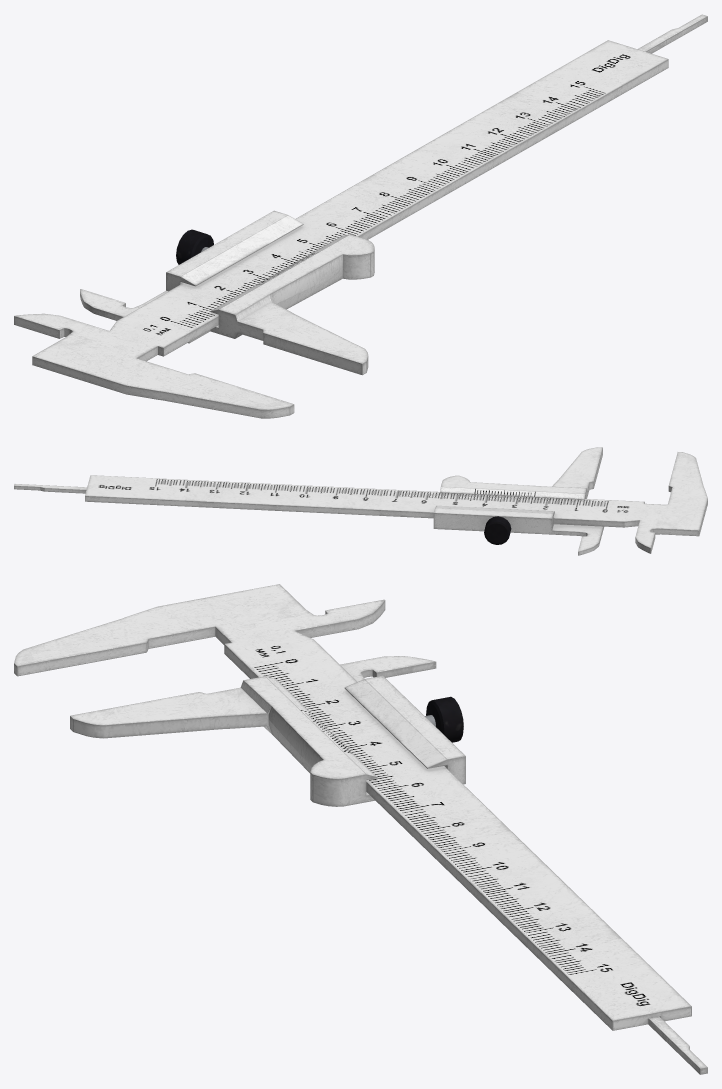
Rendered from calliper_lowpoly.glb.
The picture shows the model from 3 angles, top to bottom: view 1: azimuth 30°, elevation 25°; view 2: azimuth 150°, elevation 25°; view 3: azimuth 270°, elevation 25°; orthographic projection. The views are drawn at different scales.
Visible parts, largest first — view 1: shang; view 2: shang; view 3: shang.
Boxes of the visible parts, x1,y1,x2,y2 form: shang: [14, 14, 707, 418]; shang: [14, 447, 707, 555]; shang: [14, 584, 707, 1074].
Size of the model in its own units: 0.2139 by 0.00858 by 0.1307.
Materials: 1 (1 with a texture image).
